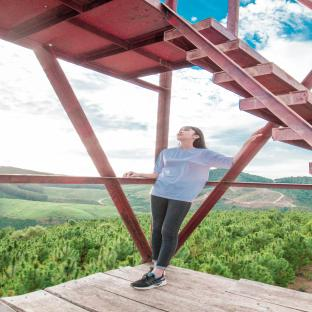Human: (123, 126, 264, 290)
